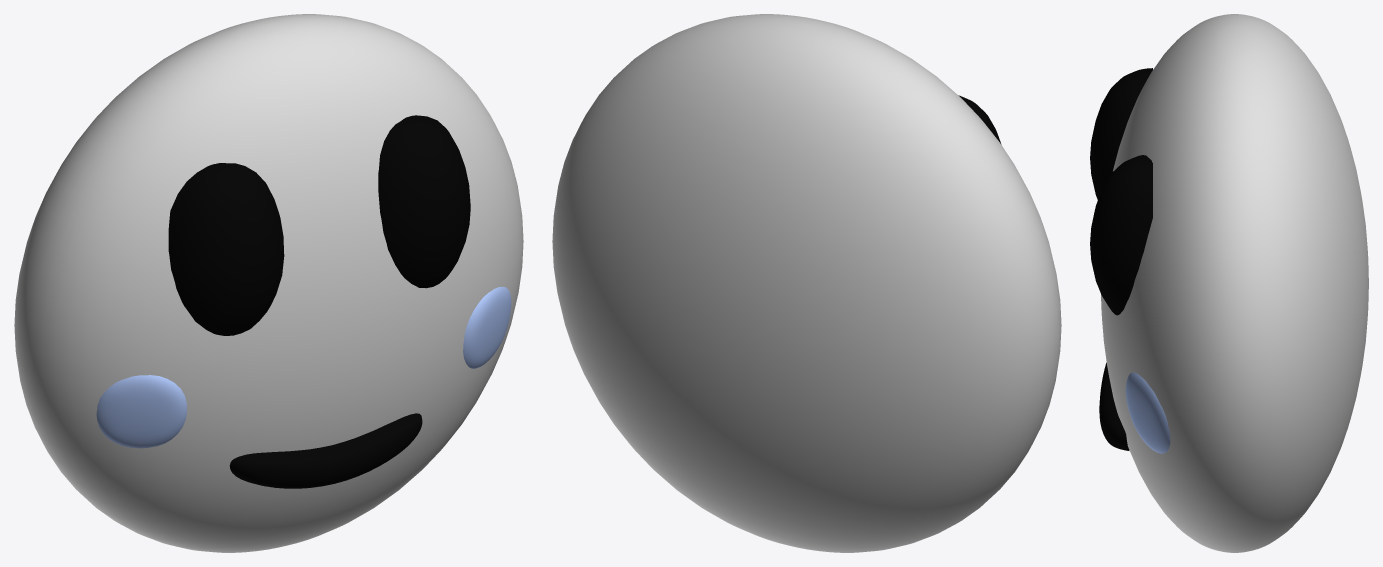
The picture shows the model from 3 angles, left to right: view 1: azimuth 30°, elevation 25°; view 2: azimuth 150°, elevation 25°; view 3: azimuth 270°, elevation 25°; orthographic projection. The views are drawn at different scales.
Parts seen in each view (by area): view 1: Face; view 2: Face; view 3: Face.
Part boxes in pixels (box(x1,y1,x2,y2)): Face: box(14, 14, 523, 552); Face: box(552, 14, 1061, 552); Face: box(1090, 14, 1368, 552).
Size of the model in its own units: 1.33 by 1.35 by 0.6929.
